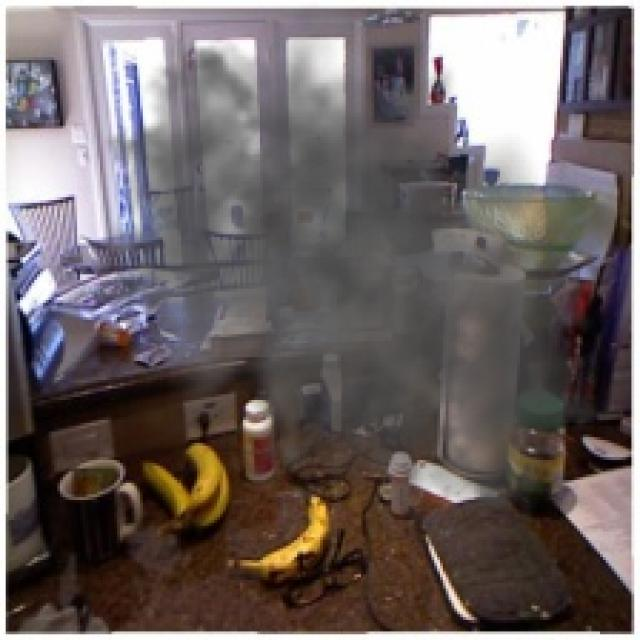smoke: (69, 3, 634, 554)
